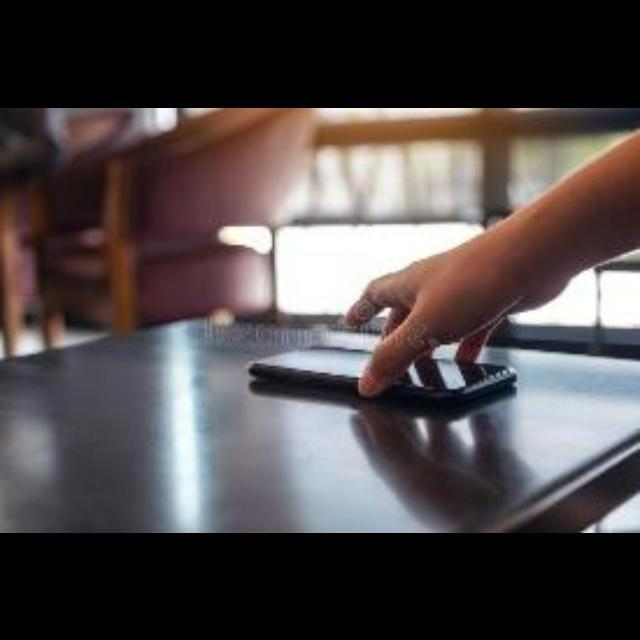phone: (227, 291, 550, 447)
